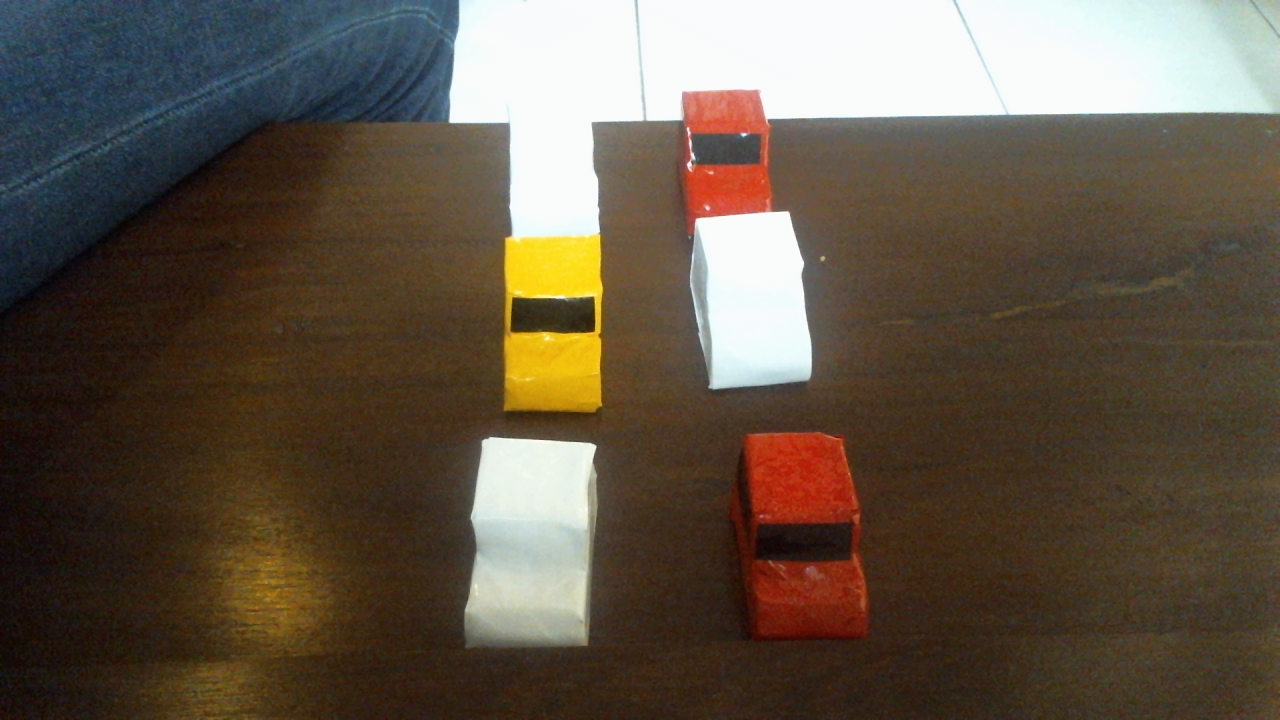Kijang Kapsul: (463, 218, 651, 426)
